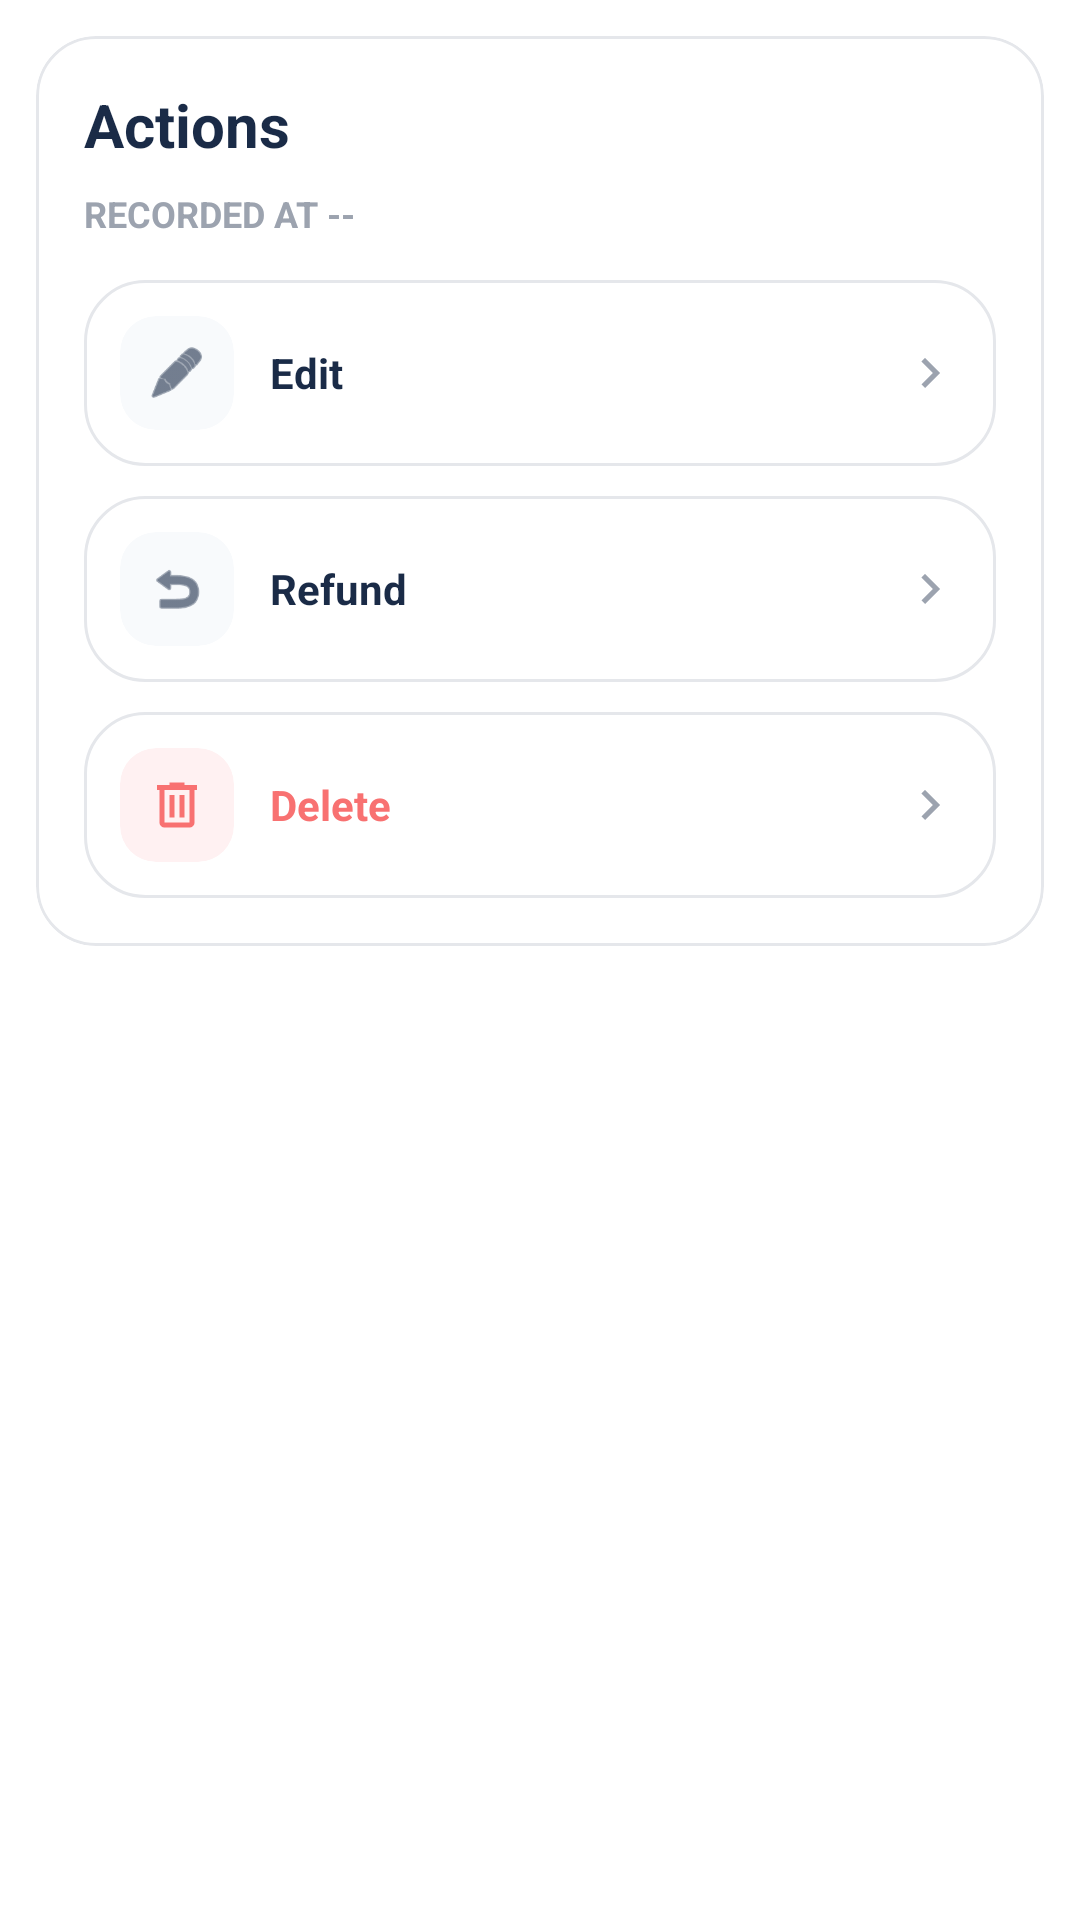

Point at icon controls on the screen. Image size 1080px x 1920px, points as (x,y).
editor chevron right: (930,373), (930,589), (930,805)
revert: (178,589)
